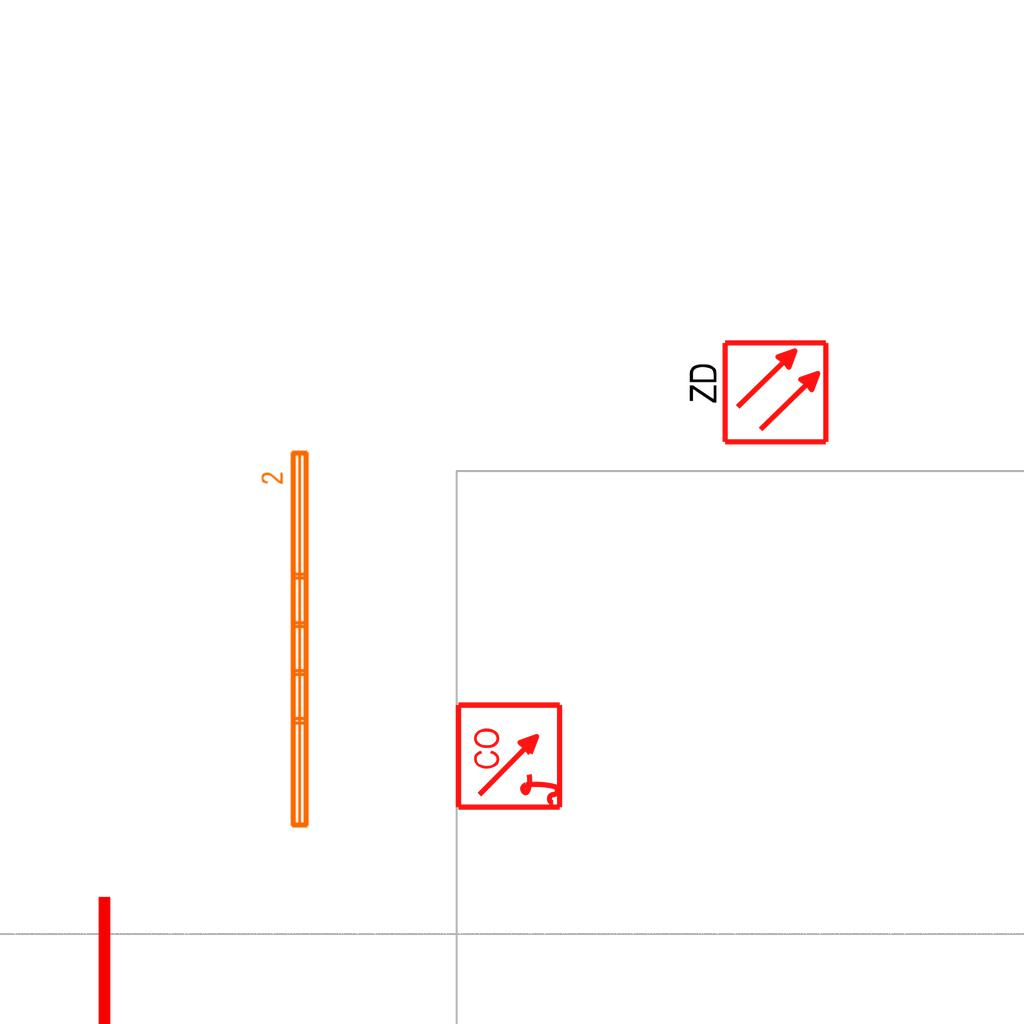ASR_Ansaugoeffnung: (79, 891, 125, 1024)
Ambulanz_Pendelleuchte_LED: (259, 446, 315, 833)
ROA_Rauchmelder_optisch_mit_Signalgeber_(Sockelsirene): (454, 699, 567, 812)
ZD_Melder_in_Zwischendecke_mit_Revisionsoeffnung_mind_40_x_40_cm: (682, 337, 831, 451)
